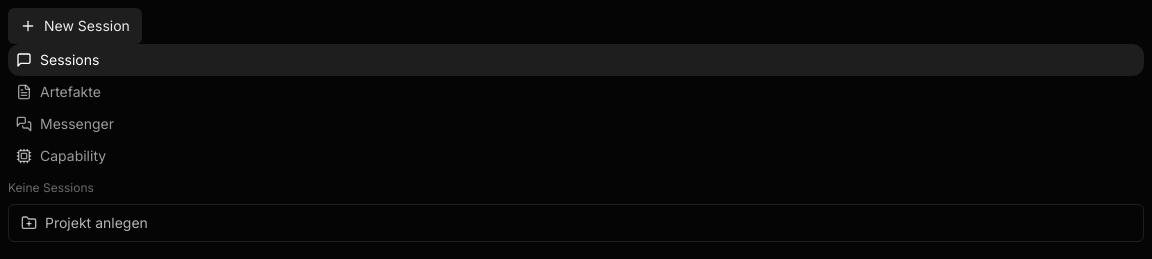
it: WorkspaceSidebar — 4 Bereiche (eigene MiMi-Nox-Navigation, nicht Hermes) › wechselt den aktiven Bereich per Klick
Click the button with test id "tab-artifacts": (70, 92) [8,76,1144,108]
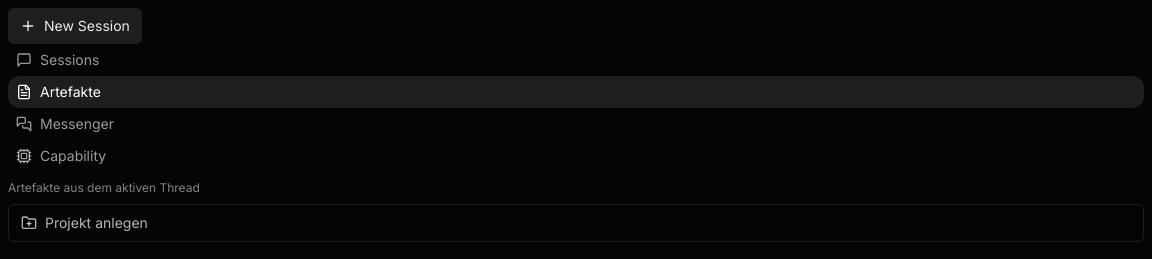
Now the element with test id "artifacts-view" is shown, box [8,180,200,195]
